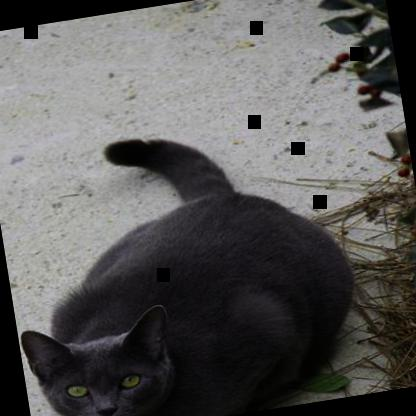cat: (0, 106, 370, 415)
